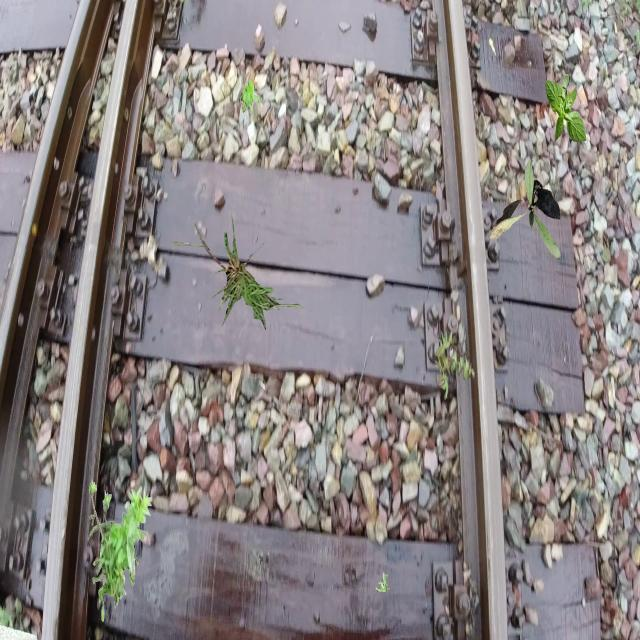Plant: (170, 211, 314, 330), (88, 479, 152, 622), (489, 159, 560, 258), (434, 329, 476, 401), (545, 74, 586, 145), (241, 80, 262, 113), (376, 572, 390, 592)
